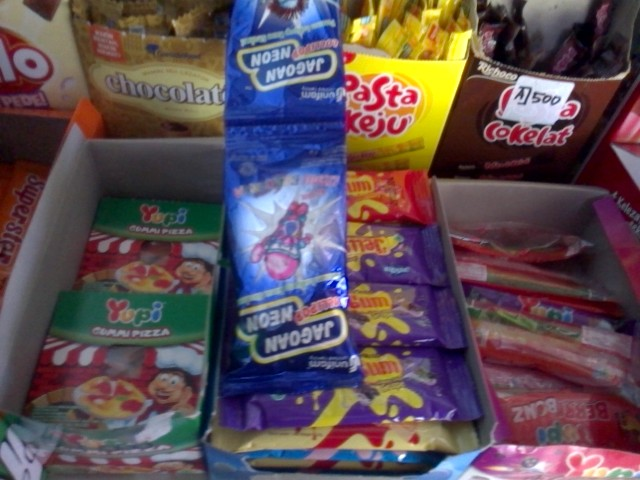jagoan neon: (219, 115, 364, 396), (224, 1, 345, 134)
